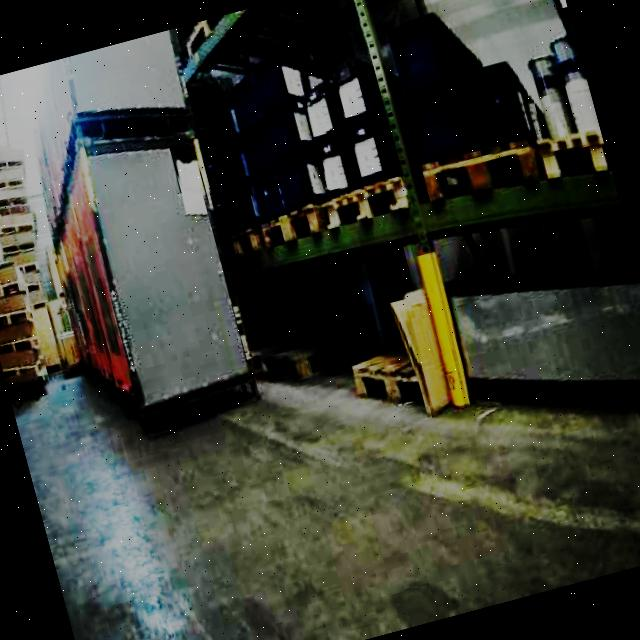ground: (6, 215, 640, 640)
pallet: (163, 0, 640, 511), (218, 115, 612, 275), (0, 131, 88, 402), (334, 284, 458, 432), (0, 259, 54, 396), (249, 325, 344, 390), (348, 342, 424, 414)
